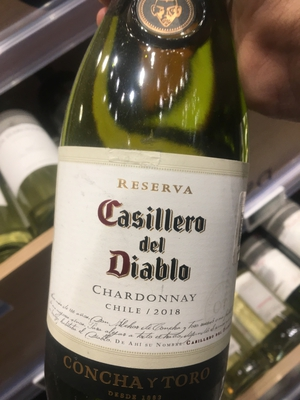casillero del diablo chardonnay: (41, 23, 251, 400)
